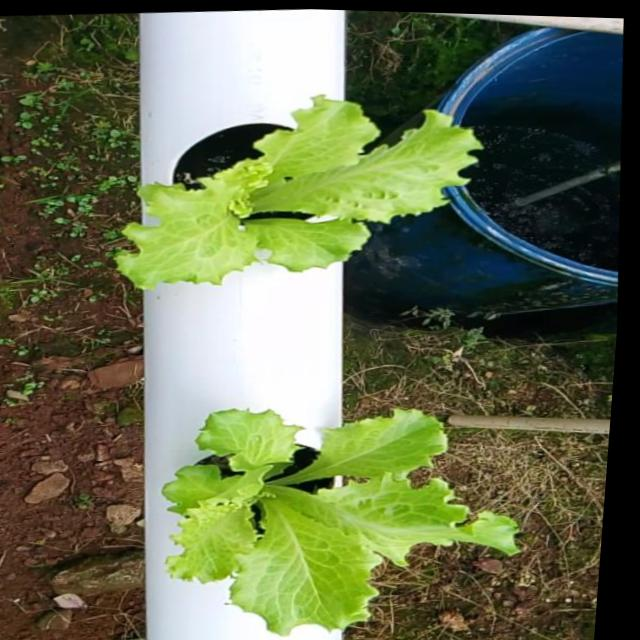Baby: (162, 407, 517, 639), (115, 91, 481, 285)
